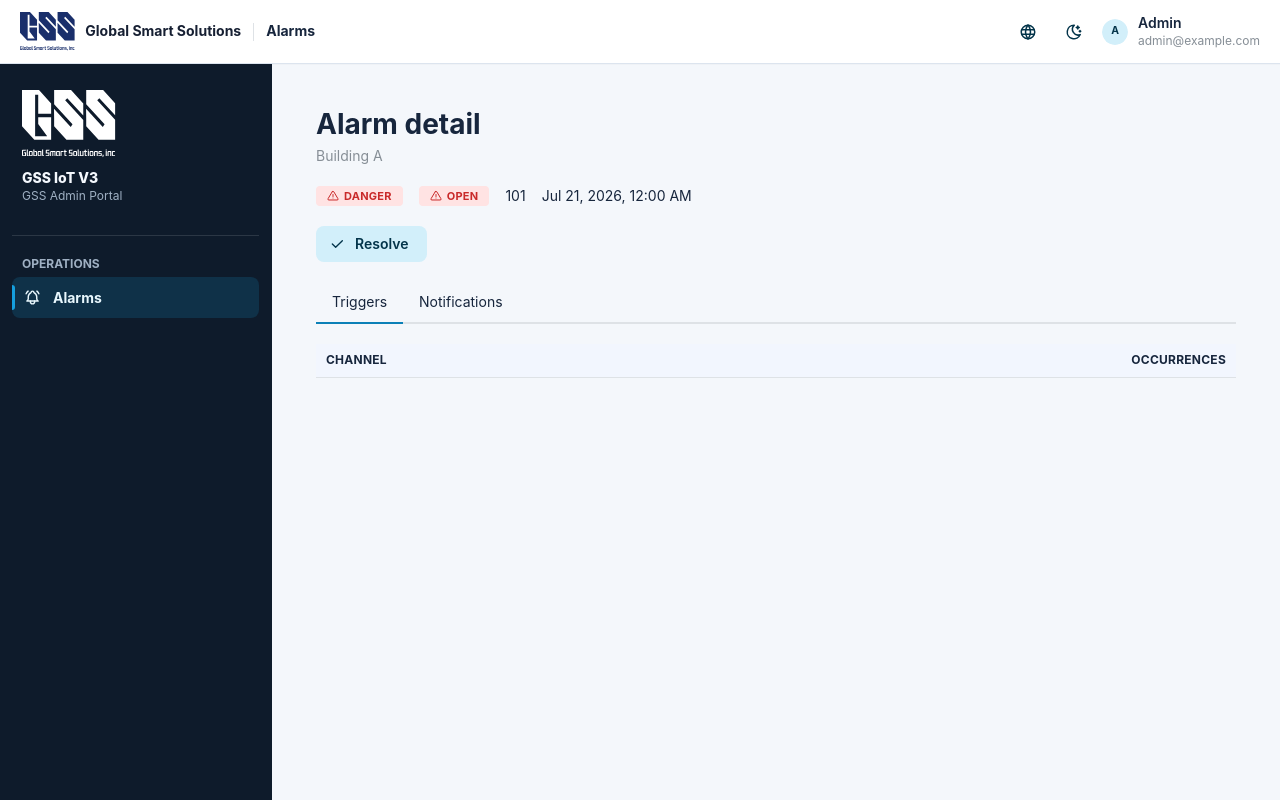
alarm operations › applies the successful SAFE resolve response in the shared Admin alarm interface
The width and height of the screenshot is (1280, 800).
Click the button "Resolve": x=372, y=244 [316,226,428,262]
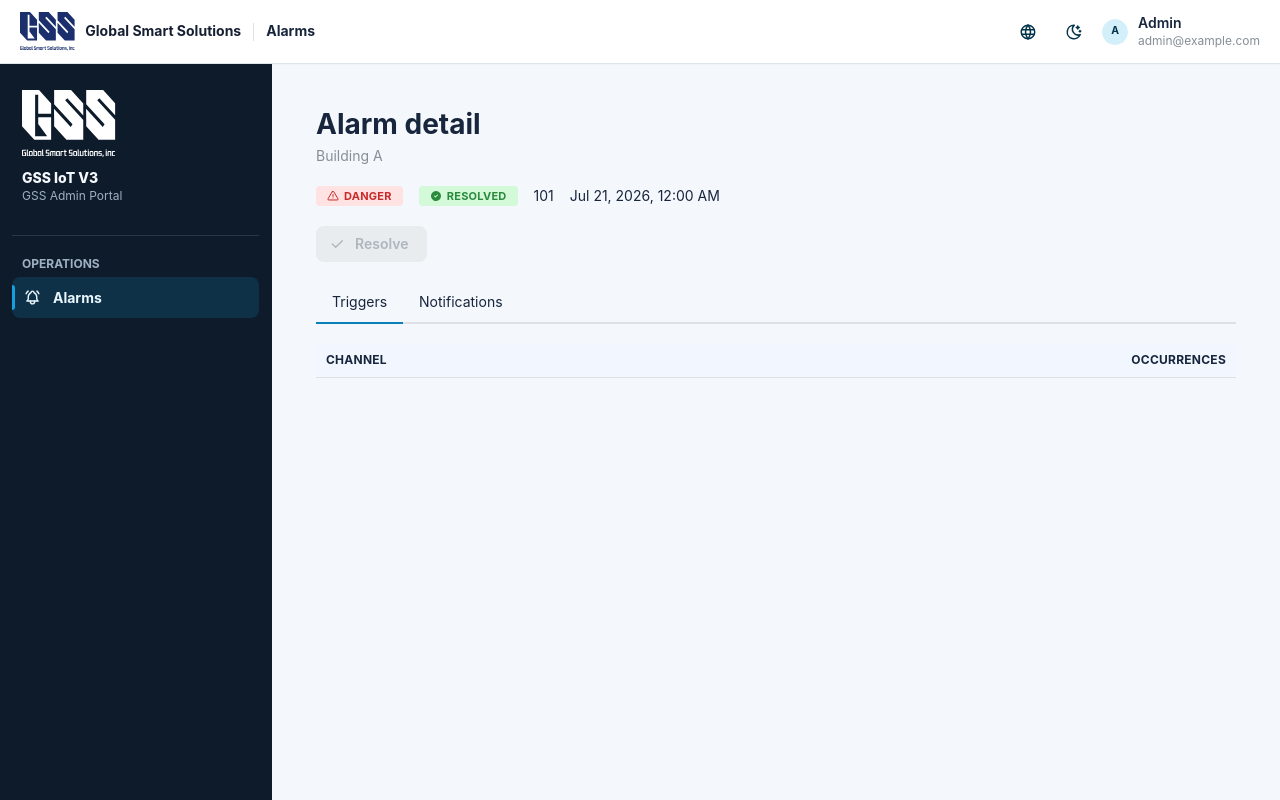
Now the text "Resolved" is shown, box [447,187,507,205]
